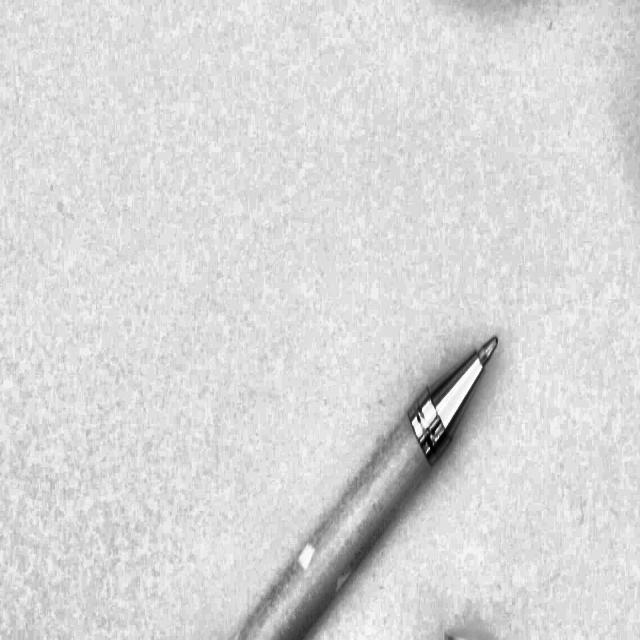Pen: (227, 294, 528, 640)
